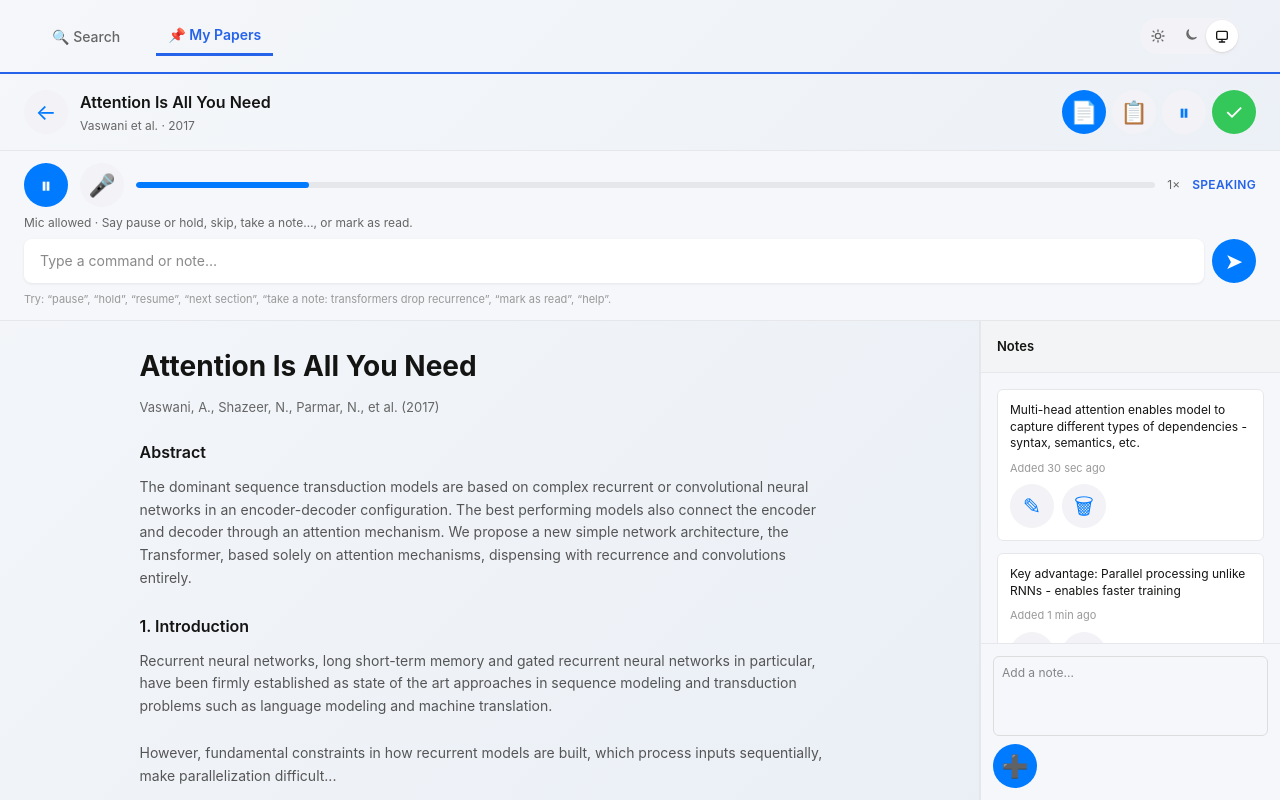
Scenario: UX: Listen voice partner › When the user types pause, Then the UI shows the pause action
Type "pause" into the field with placeholder "Type a command or note…" at (614,261), box left=24, top=239, right=1204, bottom=283
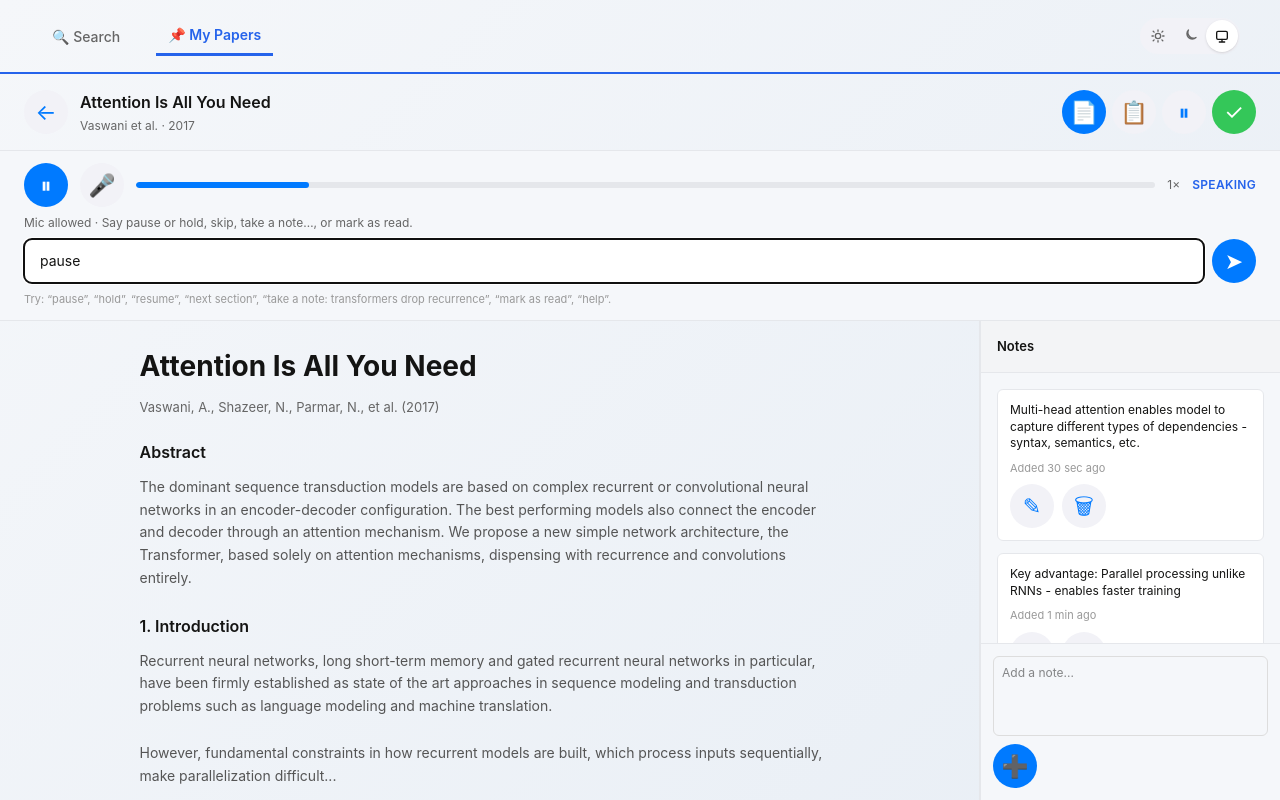
Click the button named "go" at (1234,261), box left=1212, top=239, right=1256, bottom=283
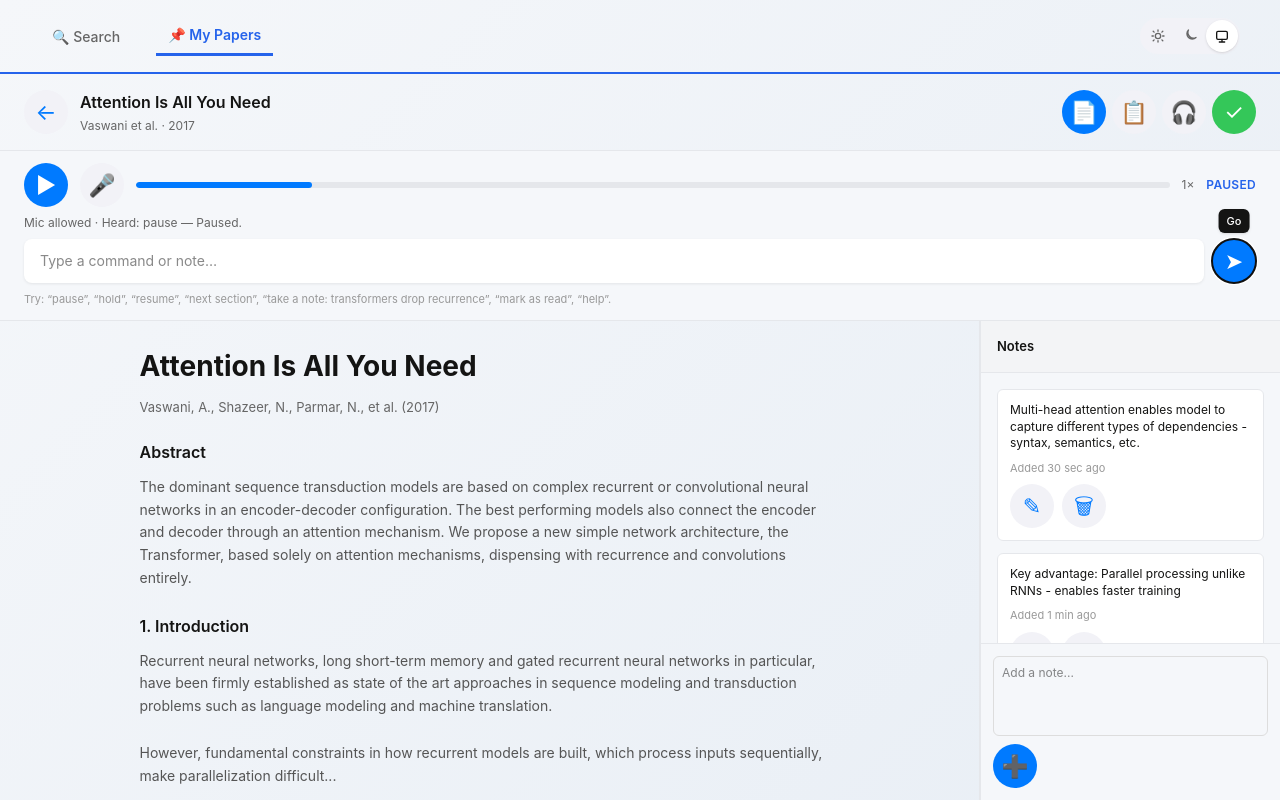
Result: the text "paused" is shown at left=1206, top=177, right=1256, bottom=193
